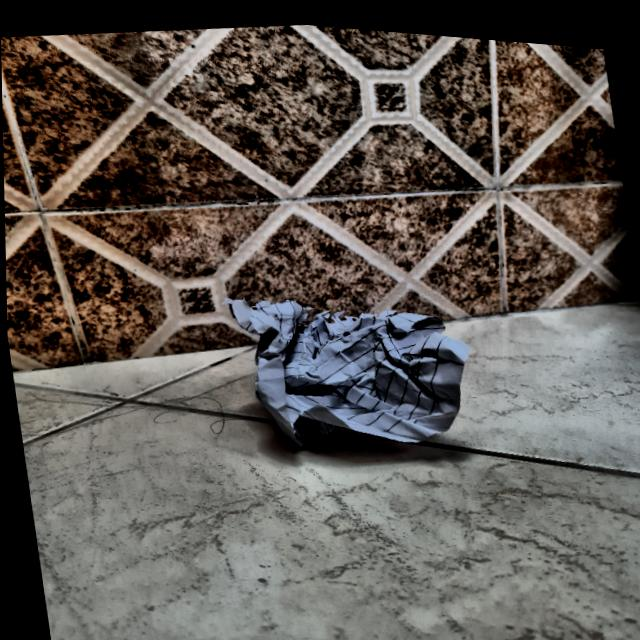Paper: (220, 272, 489, 477)
